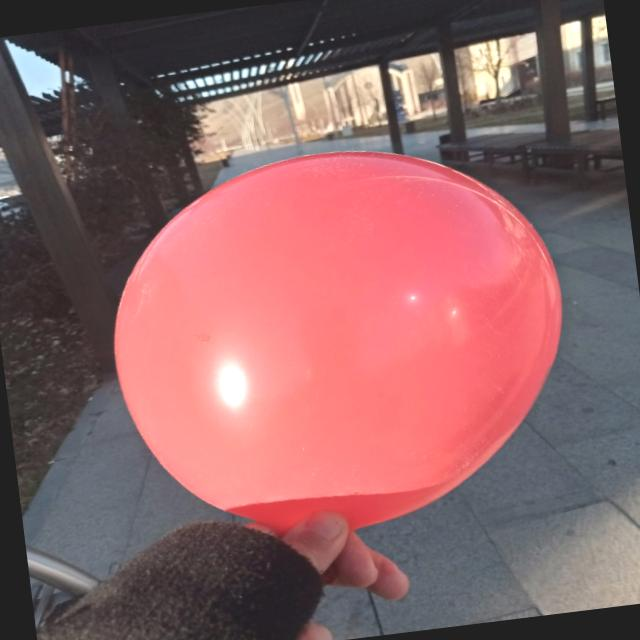balloon: (114, 151, 561, 533)
